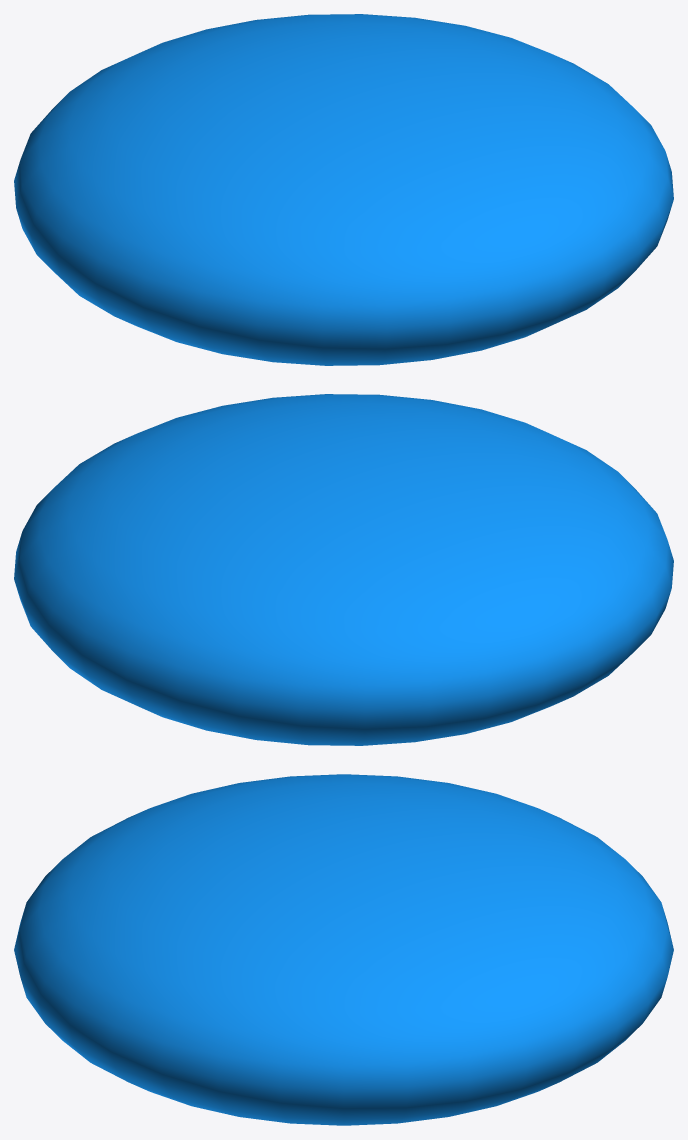
The model's file is bullet_02.gltf.
The picture shows the model from 3 angles, top to bottom: view 1: azimuth 30°, elevation 25°; view 2: azimuth 150°, elevation 25°; view 3: azimuth 270°, elevation 25°; orthographic projection.
Visible parts, largest first — view 1: Sphere; view 2: Sphere; view 3: Sphere.
Part boxes in pixels (x1,y1,x2,y2): Sphere: [14, 14, 673, 365]; Sphere: [14, 394, 673, 745]; Sphere: [14, 774, 673, 1125].
Size of the model in its own units: 0.67 by 0.2413 by 0.67.
1 material, 1 textured.
